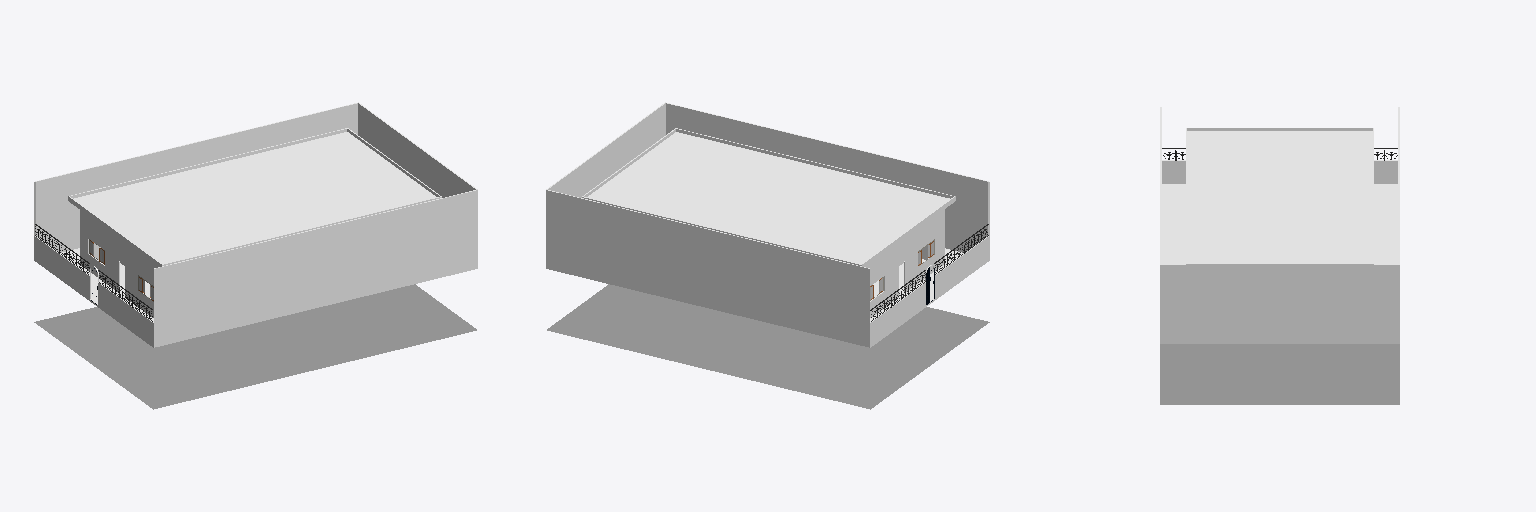
File: Stay at Home.obj
3 views of the same model, side by side, from view 1: azimuth 30°, elevation 25°; view 2: azimuth 150°, elevation 25°; view 3: azimuth 270°, elevation 25° (orthographic).
Parts seen in each view (by area): view 1: wall_27_160, room_44_214, ground_1, wall_25_149, wall_26_155, wall_28_166, wall_12_70, wall_10_58, wall_32_190, room_43_213, wall_11_64; view 2: wall_25_148, room_44_214, ground_1, wall_27_161, wall_26_155, wall_28_166, wall_10_58, wall_12_70, wall_30_178, wall_11_64; view 3: room_44_214, wall_26_154, ground_1, room_43_213, wall_28_167, wall_29_172.
Boxes of the visible parts, box(x1,y1,x2,y2) form: wall_27_160: box(154, 190, 477, 346); room_44_214: box(74, 132, 435, 263); ground_1: box(34, 284, 476, 409); wall_25_149: box(35, 103, 357, 252); wall_26_155: box(358, 103, 475, 197); wall_28_166: box(34, 236, 153, 347); wall_12_70: box(80, 210, 113, 288); wall_10_58: box(131, 247, 157, 317); wall_32_190: box(70, 129, 346, 198); room_43_213: box(60, 248, 477, 347); wall_11_64: box(114, 235, 130, 301); wall_25_148: box(546, 190, 869, 347); room_44_214: box(587, 132, 949, 263); ground_1: box(547, 284, 989, 409); wall_27_161: box(666, 103, 988, 252); wall_26_155: box(548, 103, 665, 197); wall_28_166: box(870, 236, 989, 347); wall_10_58: box(911, 209, 944, 286); wall_12_70: box(866, 247, 892, 317); wall_30_178: box(676, 129, 953, 198); wall_11_64: box(893, 234, 910, 301); room_44_214: box(1187, 131, 1372, 263); wall_26_154: box(1160, 265, 1399, 343); ground_1: box(1160, 344, 1399, 404); room_43_213: box(1162, 184, 1397, 264); wall_28_167: box(1162, 161, 1397, 183); wall_29_172: box(1187, 128, 1372, 130).
Bounding box in the file's own units: 2209 × 912 × 1408.